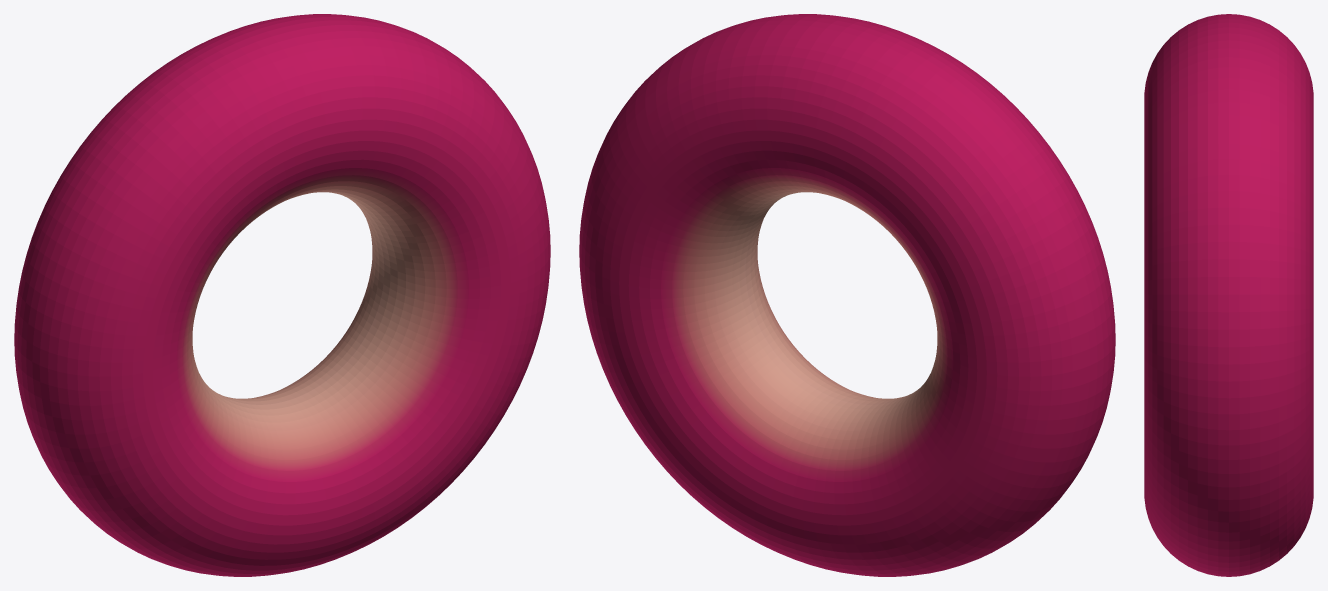
3 renders of one model, left to right at view 1: azimuth 30°, elevation 25°; view 2: azimuth 150°, elevation 25°; view 3: azimuth 270°, elevation 25°, orthographic. The views are drawn at different scales.
Parts seen in each view (by area): view 1: world; view 2: world; view 3: world.
Boxes of the visible parts, <box> form: world: <box>14,14,550,576</box>; world: <box>579,14,1115,576</box>; world: <box>1144,14,1313,576</box>.
Size of the model in its own units: 30.53 by 30.53 by 9.18.
